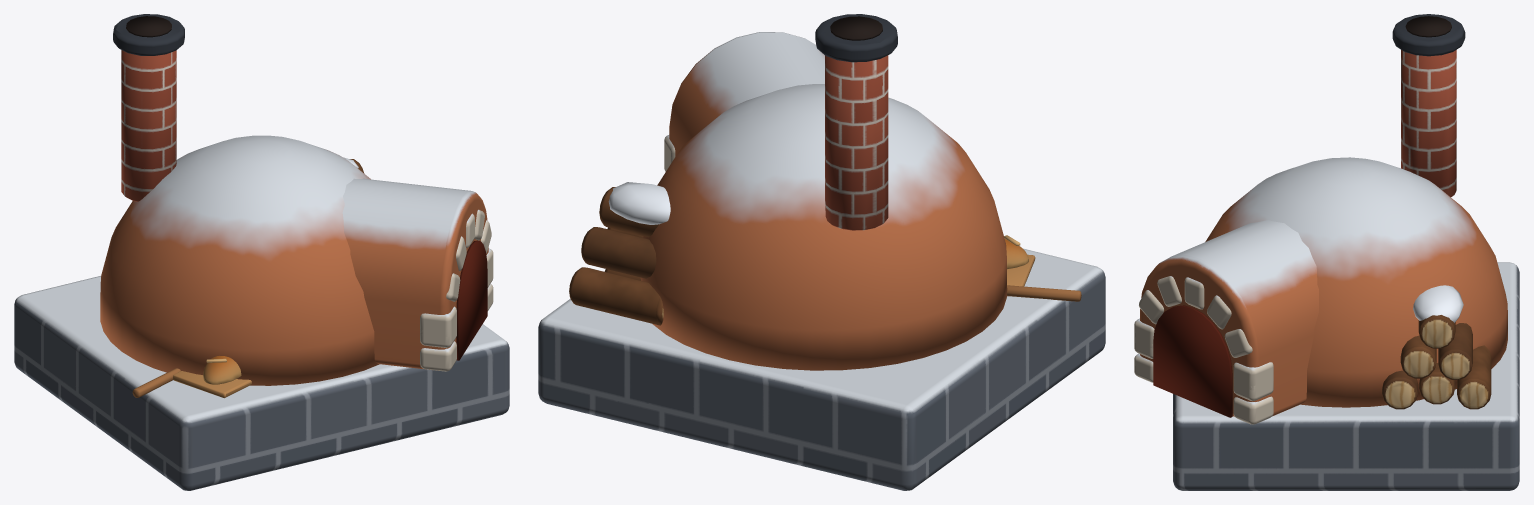
Rendered from station_bakery.glb.
3 views of the same model, side by side, from view 1: azimuth 30°, elevation 25°; view 2: azimuth 150°, elevation 25°; view 3: azimuth 270°, elevation 25° (orthographic). The views are drawn at different scales.
Parts seen in each view (by area): view 1: b1; view 2: b1; view 3: b1.
Part boxes in pixels (box(x1,y1,x2,y2)): b1: box(14, 14, 509, 490); b1: box(538, 14, 1105, 490); b1: box(1134, 14, 1519, 490).
Size of the model in its own units: 2.52 by 2.36 by 2.33.
1 material, 1 textured.
